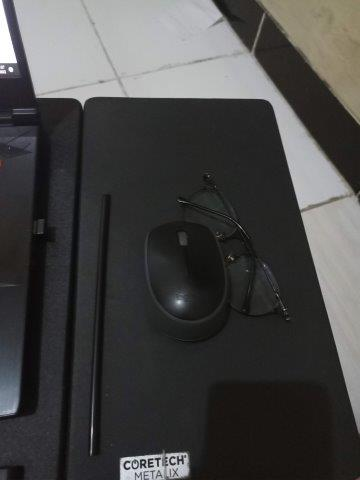sedotan: (88, 194, 110, 456)
